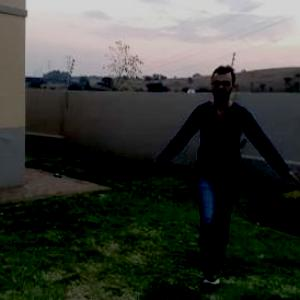land: (143, 42, 299, 299)
